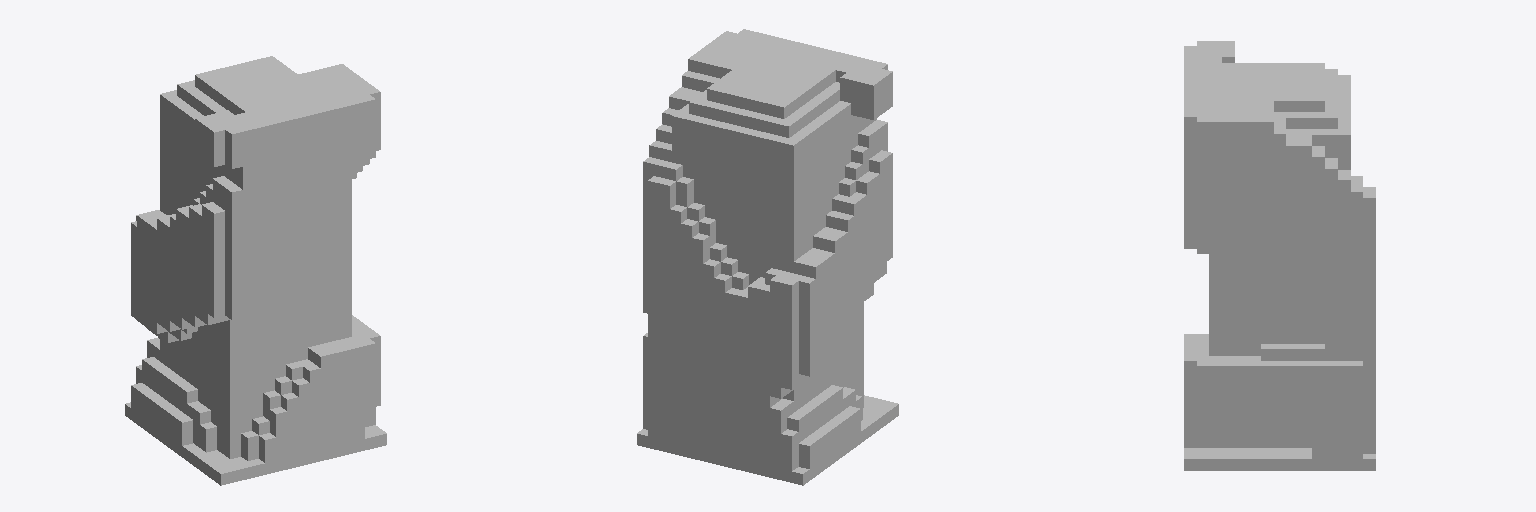
Rendered from Cave Wall test 4.obj.
The picture shows the model from 3 angles: view 1: azimuth 30°, elevation 25°; view 2: azimuth 150°, elevation 25°; view 3: azimuth 270°, elevation 25°; orthographic projection.
Visible parts, largest first — view 1: object 1; view 2: object 1; view 3: object 1.
Part boxes in pixels (x1,y1,x2,y2): object 1: (125,56,386,485); object 1: (637,29,898,485); object 1: (1184,41,1375,470).
Bounding box in the file's own units: 1.5 × 3 × 1.5.